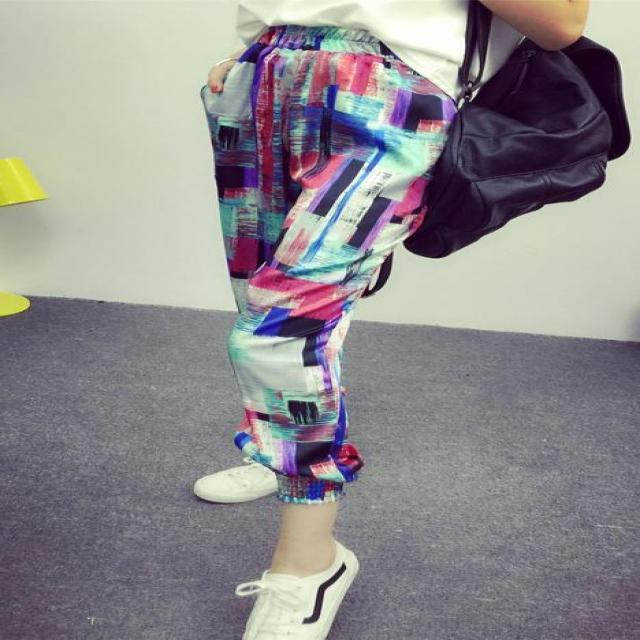trousers: (220, 26, 472, 498)
